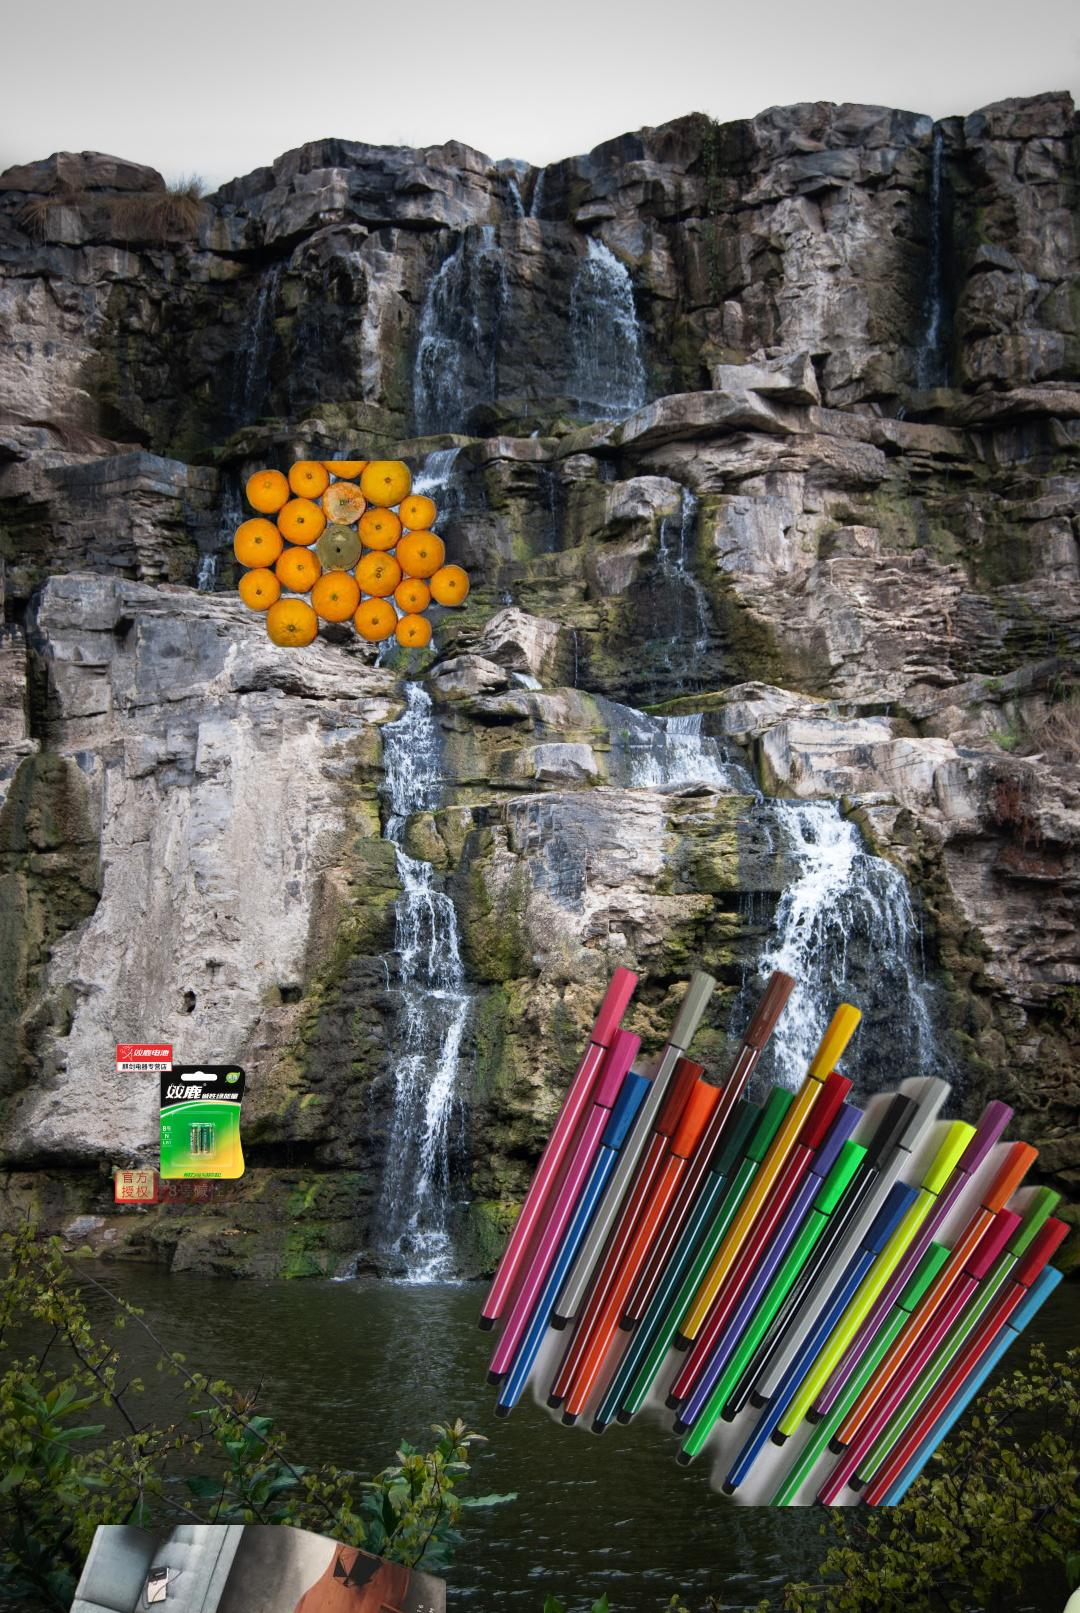battery: (115, 1043, 275, 1203)
biological: (231, 461, 472, 651)
metal-cans: (824, 1242, 1080, 1613)
paper: (55, 1525, 446, 1613)
penholder: (469, 960, 1078, 1506)
